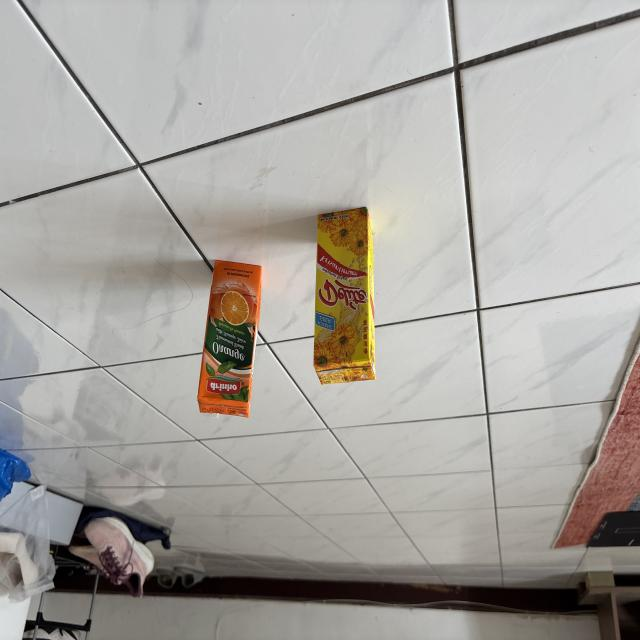drink_carton: (308, 200, 382, 396), (191, 254, 272, 426)
